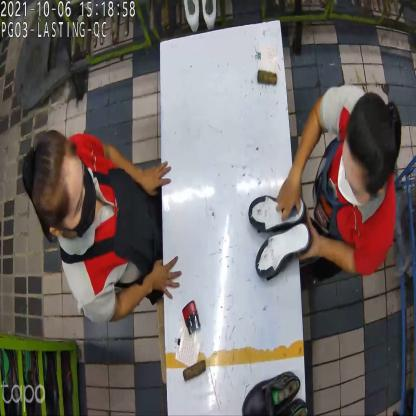shoes: (247, 192, 312, 280), (240, 370, 309, 416)
stamp: (278, 179, 302, 218), (184, 299, 202, 337)
